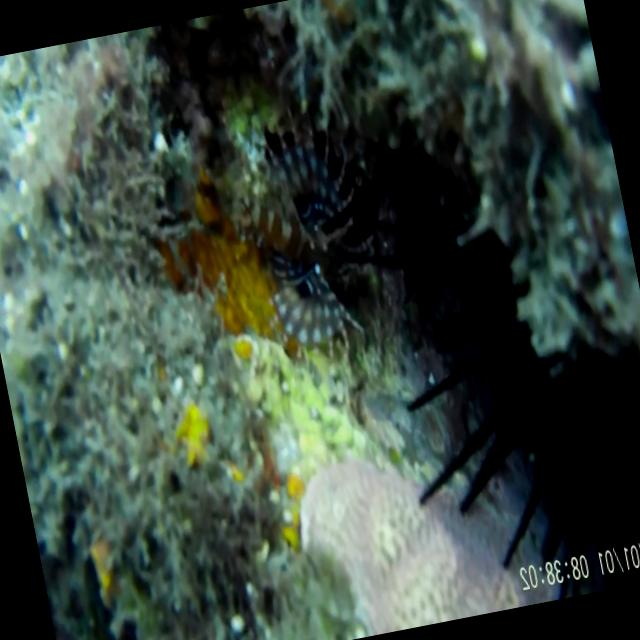Aslan Baligi: (188, 70, 408, 373)
